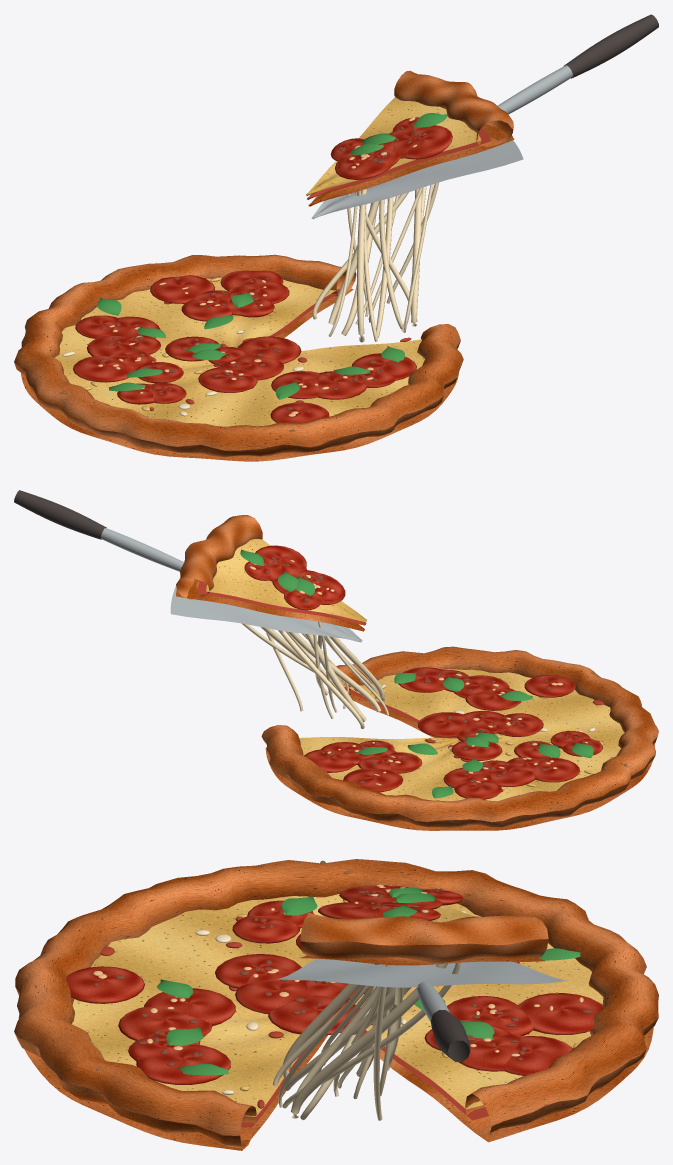
The model's file is zesto-hero-pizza.glb.
3 renders of one model, top to bottom at view 1: azimuth 30°, elevation 25°; view 2: azimuth 150°, elevation 25°; view 3: azimuth 270°, elevation 25°, orthographic. The views are drawn at different scales.
Visible parts, largest first — view 1: Main_Raised_Baked_Crust, Main_Mozzarella, Slice_Baked_Crust, Spatula_Blade, Main_Dough, Slice_Mozzarella, Spatula_Dark_Grip, Slice_Dough, Pepperoni.014, Pepperoni.004, Spatula_Metal_Neck, Pepperoni.026 (+22 smaller); view 2: Main_Raised_Baked_Crust, Main_Mozzarella, Slice_Baked_Crust, Spatula_Blade, Slice_Mozzarella, Main_Dough, Spatula_Dark_Grip, Slice_Dough, Spatula_Metal_Neck, Pepperoni.014, Pepperoni.026, Pepperoni.004 (+20 smaller); view 3: Main_Raised_Baked_Crust, Main_Mozzarella, Slice_Baked_Crust, Spatula_Blade, Main_Dough, Pepperoni.014, Pepperoni.005, Pepperoni.001, Pepperoni.006, Stretchy_Mozzarella_00, Pepperoni.002, Pepperoni.013 (+29 smaller).
Boxes of the visible parts, x1,y1,x2,y2 form: Main_Raised_Baked_Crust: (14, 254, 463, 456); Main_Mozzarella: (54, 278, 424, 426); Slice_Baked_Crust: (394, 70, 513, 146); Spatula_Blade: (311, 140, 523, 219); Main_Dough: (21, 288, 458, 461); Slice_Mozzarella: (306, 97, 481, 195); Spatula_Dark_Grip: (564, 14, 658, 78); Slice_Dough: (308, 124, 514, 206); Pepperoni.014: (150, 275, 214, 303); Pepperoni.004: (73, 356, 136, 382); Spatula_Metal_Neck: (497, 65, 572, 114); Pepperoni.026: (237, 336, 301, 363); Main_Raised_Baked_Crust: (261, 646, 658, 828); Main_Mozzarella: (299, 669, 624, 801); Slice_Baked_Crust: (176, 515, 262, 599); Spatula_Blade: (170, 579, 362, 642); Slice_Mozzarella: (206, 539, 366, 622); Main_Dough: (265, 692, 655, 830); Spatula_Dark_Grip: (14, 490, 106, 539); Slice_Dough: (176, 576, 364, 631); Spatula_Metal_Neck: (100, 528, 183, 571); Pepperoni.014: (343, 768, 403, 792); Pepperoni.026: (418, 712, 467, 737); Pepperoni.004: (532, 757, 579, 782); Main_Raised_Baked_Crust: (14, 859, 658, 1148); Main_Mozzarella: (72, 894, 603, 1116); Slice_Baked_Crust: (300, 913, 548, 962); Spatula_Blade: (277, 958, 566, 987); Main_Dough: (18, 1014, 653, 1150); Pepperoni.014: (518, 993, 604, 1035); Pepperoni.005: (66, 966, 144, 1003); Pepperoni.001: (136, 1044, 230, 1084); Pepperoni.006: (144, 988, 235, 1026); Stretchy_Mozzarella_00: (291, 963, 448, 1118); Pepperoni.002: (118, 1006, 212, 1040); Pepperoni.013: (235, 980, 315, 1013).
Size of what is drawn, in the model's own units: 8.26 by 2.56 by 4.87.
11 materials, 3 textured.
